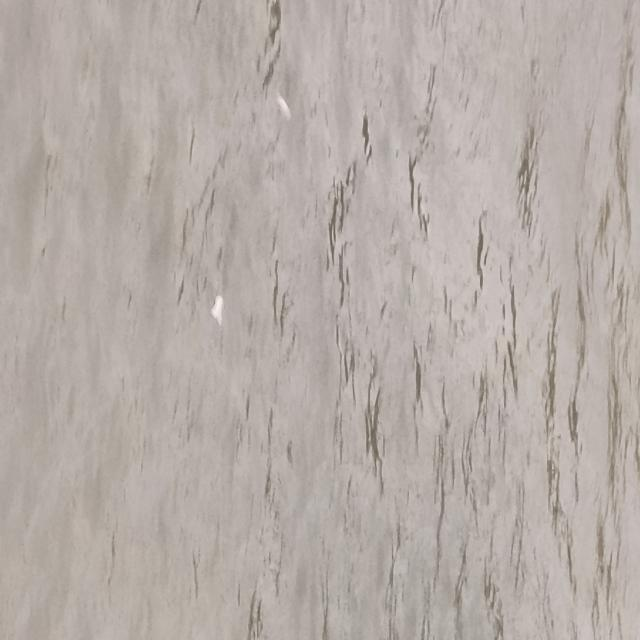Plastic: (269, 82, 298, 131), (206, 290, 231, 334)
